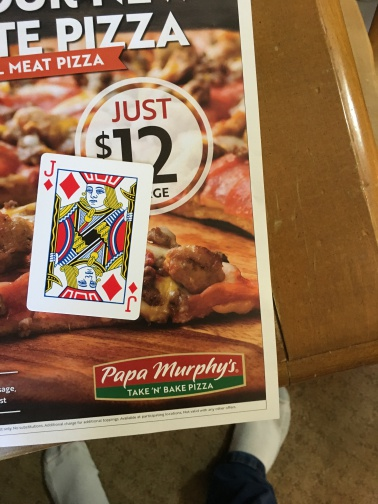jack: (25, 152, 154, 323)
